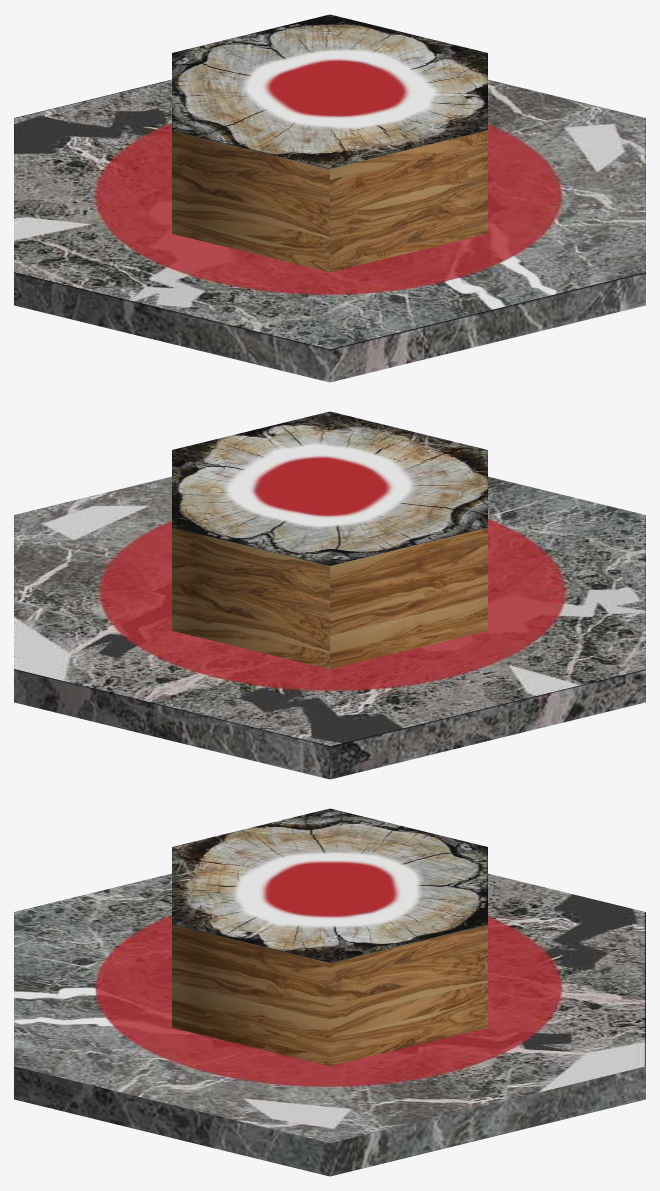
Rendered from BaseRed.FBX.
The picture shows the model from 3 angles, top to bottom: view 1: azimuth 30°, elevation 25°; view 2: azimuth 150°, elevation 25°; view 3: azimuth 270°, elevation 25°; orthographic projection.
Parts seen in each view (by area): view 1: Cylinder001, Cylinder002; view 2: Cylinder001, Cylinder002; view 3: Cylinder001, Cylinder002.
Part boxes in pixels (x1=…): Cylinder001: x1=14, y1=79, x2=645, y2=382; Cylinder002: x1=172, y1=14, x2=487, y2=272; Cylinder001: x1=14, y1=476, x2=645, y2=779; Cylinder002: x1=172, y1=411, x2=487, y2=669; Cylinder001: x1=14, y1=873, x2=645, y2=1176; Cylinder002: x1=172, y1=808, x2=487, y2=1066.
Size of the model in its own units: 60 by 51.96 by 12.4.
Materials: 2 (2 with a texture image).
